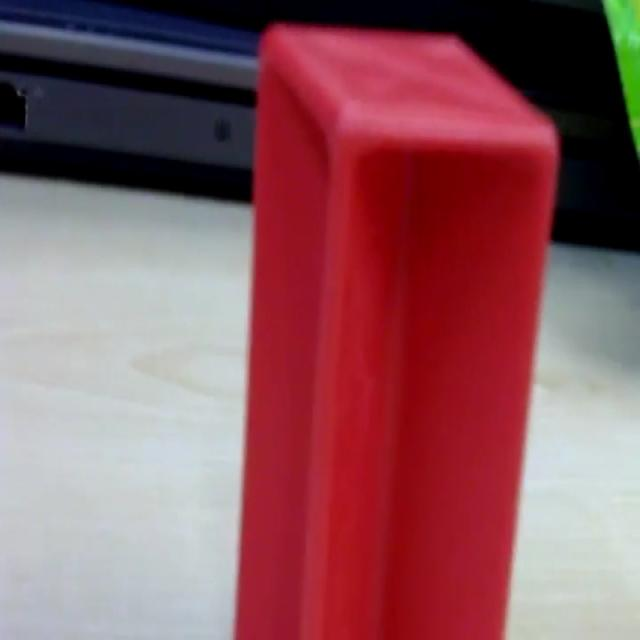red_block: (232, 20, 560, 636)
